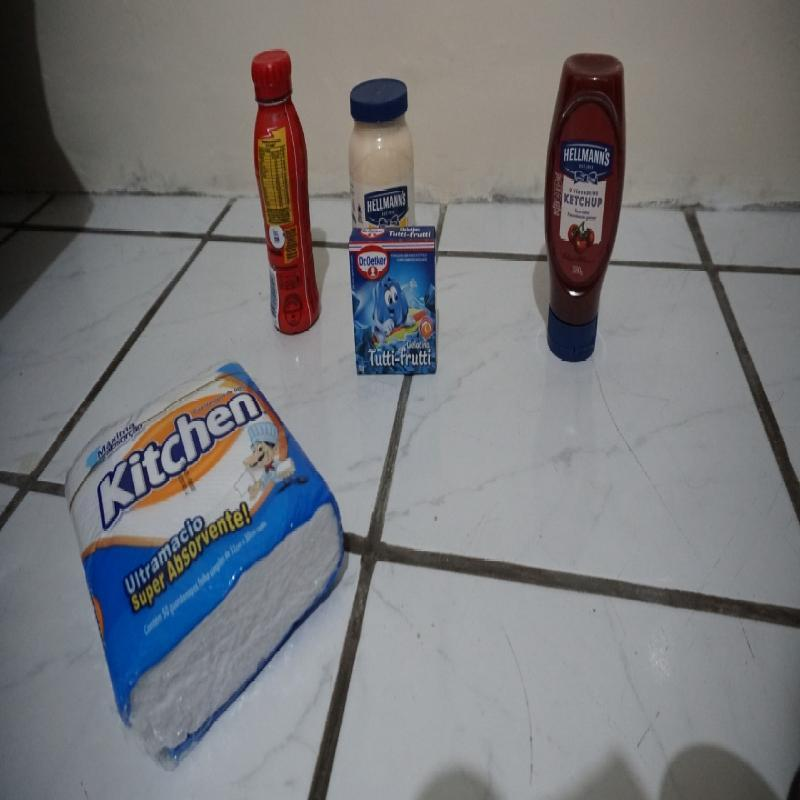Chocolate Milk: (248, 47, 322, 335)
Gelatine: (349, 224, 438, 376)
Ketchup: (542, 53, 629, 365)
Mayonnaise: (347, 77, 415, 226)
Napkin: (67, 363, 344, 768)
